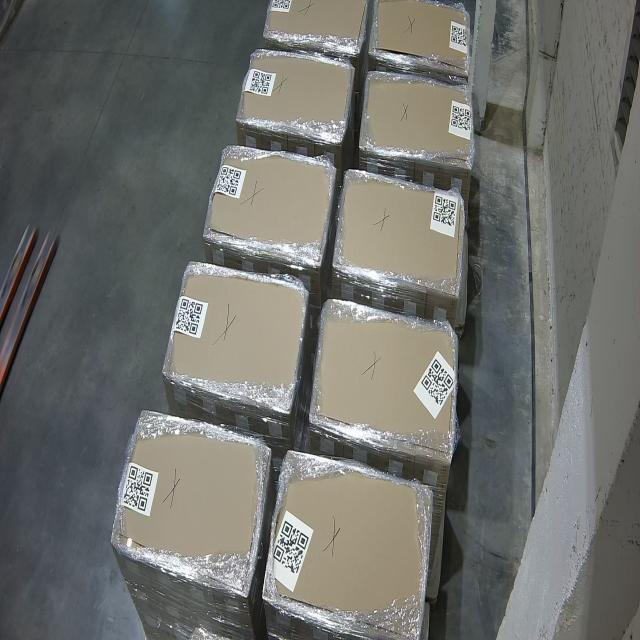pallet: (260, 450, 434, 640), (103, 406, 270, 596), (309, 296, 460, 462), (160, 260, 306, 414), (330, 170, 468, 302), (200, 148, 336, 268), (234, 49, 354, 144), (362, 68, 476, 167), (371, 0, 471, 81), (261, 0, 368, 52)
